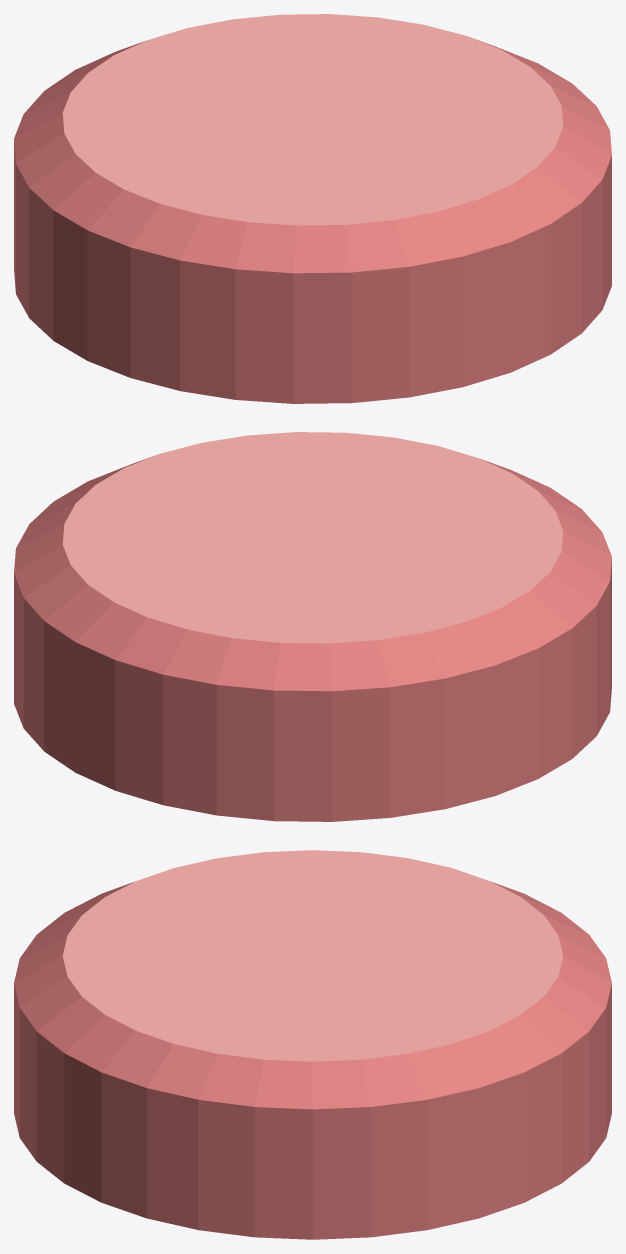
File: pink_button.fbx
3 renders of one model, top to bottom at view 1: azimuth 30°, elevation 25°; view 2: azimuth 150°, elevation 25°; view 3: azimuth 270°, elevation 25°, orthographic.
Visible parts, largest first — view 1: Circle.001; view 2: Circle.001; view 3: Circle.001.
Boxes of the visible parts, left/top/right/bottom form: Circle.001: left=14, top=14, right=611, bottom=403; Circle.001: left=14, top=432, right=611, bottom=821; Circle.001: left=14, top=850, right=611, bottom=1239.
Bounding box in the file's own units: 76.32 × 22.18 × 76.32.
